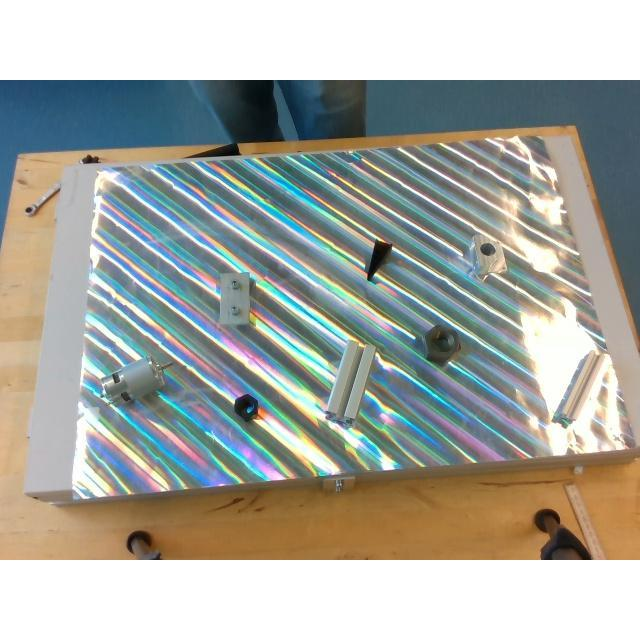F20_20_G: (553, 349, 611, 425)
M20: (233, 394, 257, 422)
M30: (423, 326, 459, 362)
Motor2: (99, 356, 171, 404)
S40_40_G: (324, 340, 374, 424)
